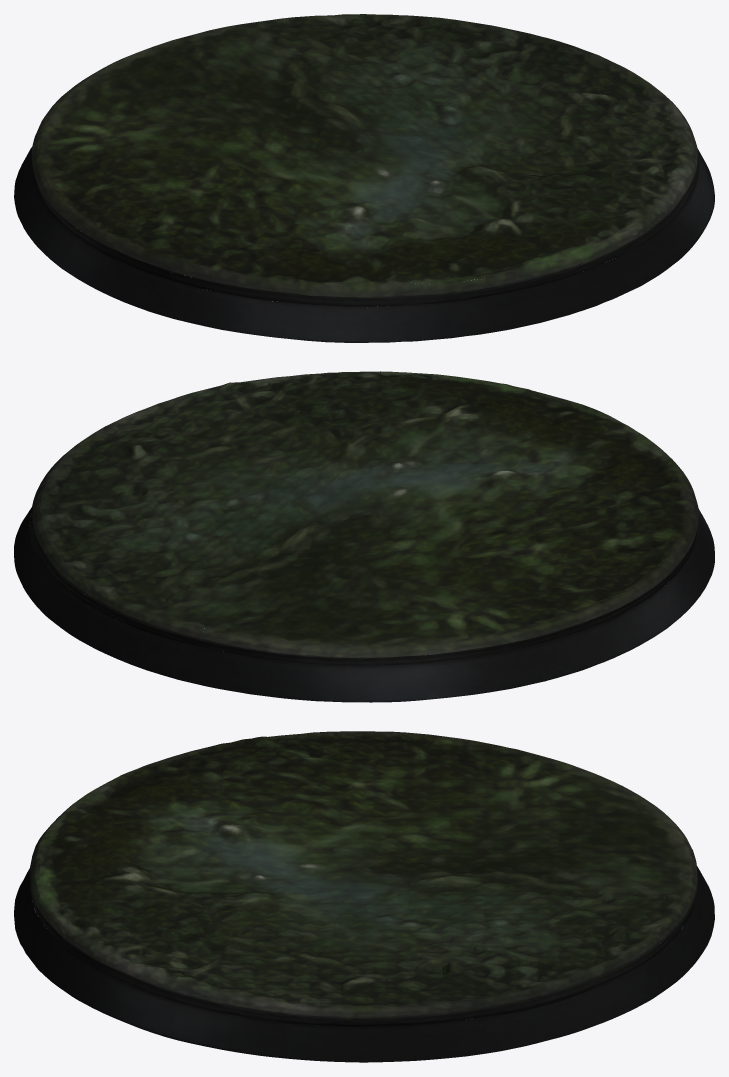
File: forest 2.glb
3 renders of one model, top to bottom at view 1: azimuth 30°, elevation 25°; view 2: azimuth 150°, elevation 25°; view 3: azimuth 270°, elevation 25°, orthographic.
Visible parts, largest first — view 1: world; view 2: world; view 3: world.
Boxes of the visible parts, x1,y1,x2,y2 form: world: [14, 14, 714, 342]; world: [14, 371, 714, 702]; world: [14, 731, 714, 1062].
Bounding box in the file's own units: 0.999 × 0.0821 × 0.999.
Materials: 1 (1 with a texture image).
